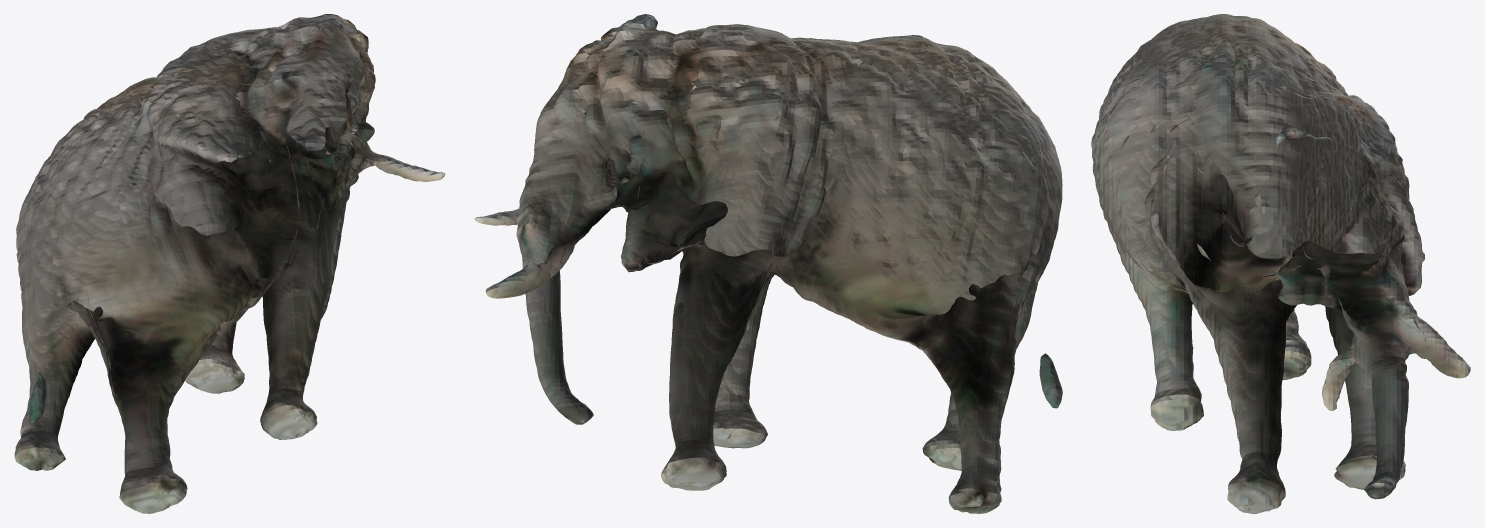
The picture shows the model from 3 angles, left to right: view 1: azimuth 30°, elevation 25°; view 2: azimuth 150°, elevation 25°; view 3: azimuth 270°, elevation 25°; orthographic projection. The views are drawn at different scales.
Visible parts, largest first — view 1: geometry_0; view 2: geometry_0; view 3: geometry_0.
Boxes of the visible parts, x1,y1,x2,y2 form: geometry_0: (14, 14, 445, 513); geometry_0: (474, 14, 1062, 513); geometry_0: (1091, 14, 1470, 513).
Bounding box in the file's own units: 1.6 × 1.27 × 1.05.
